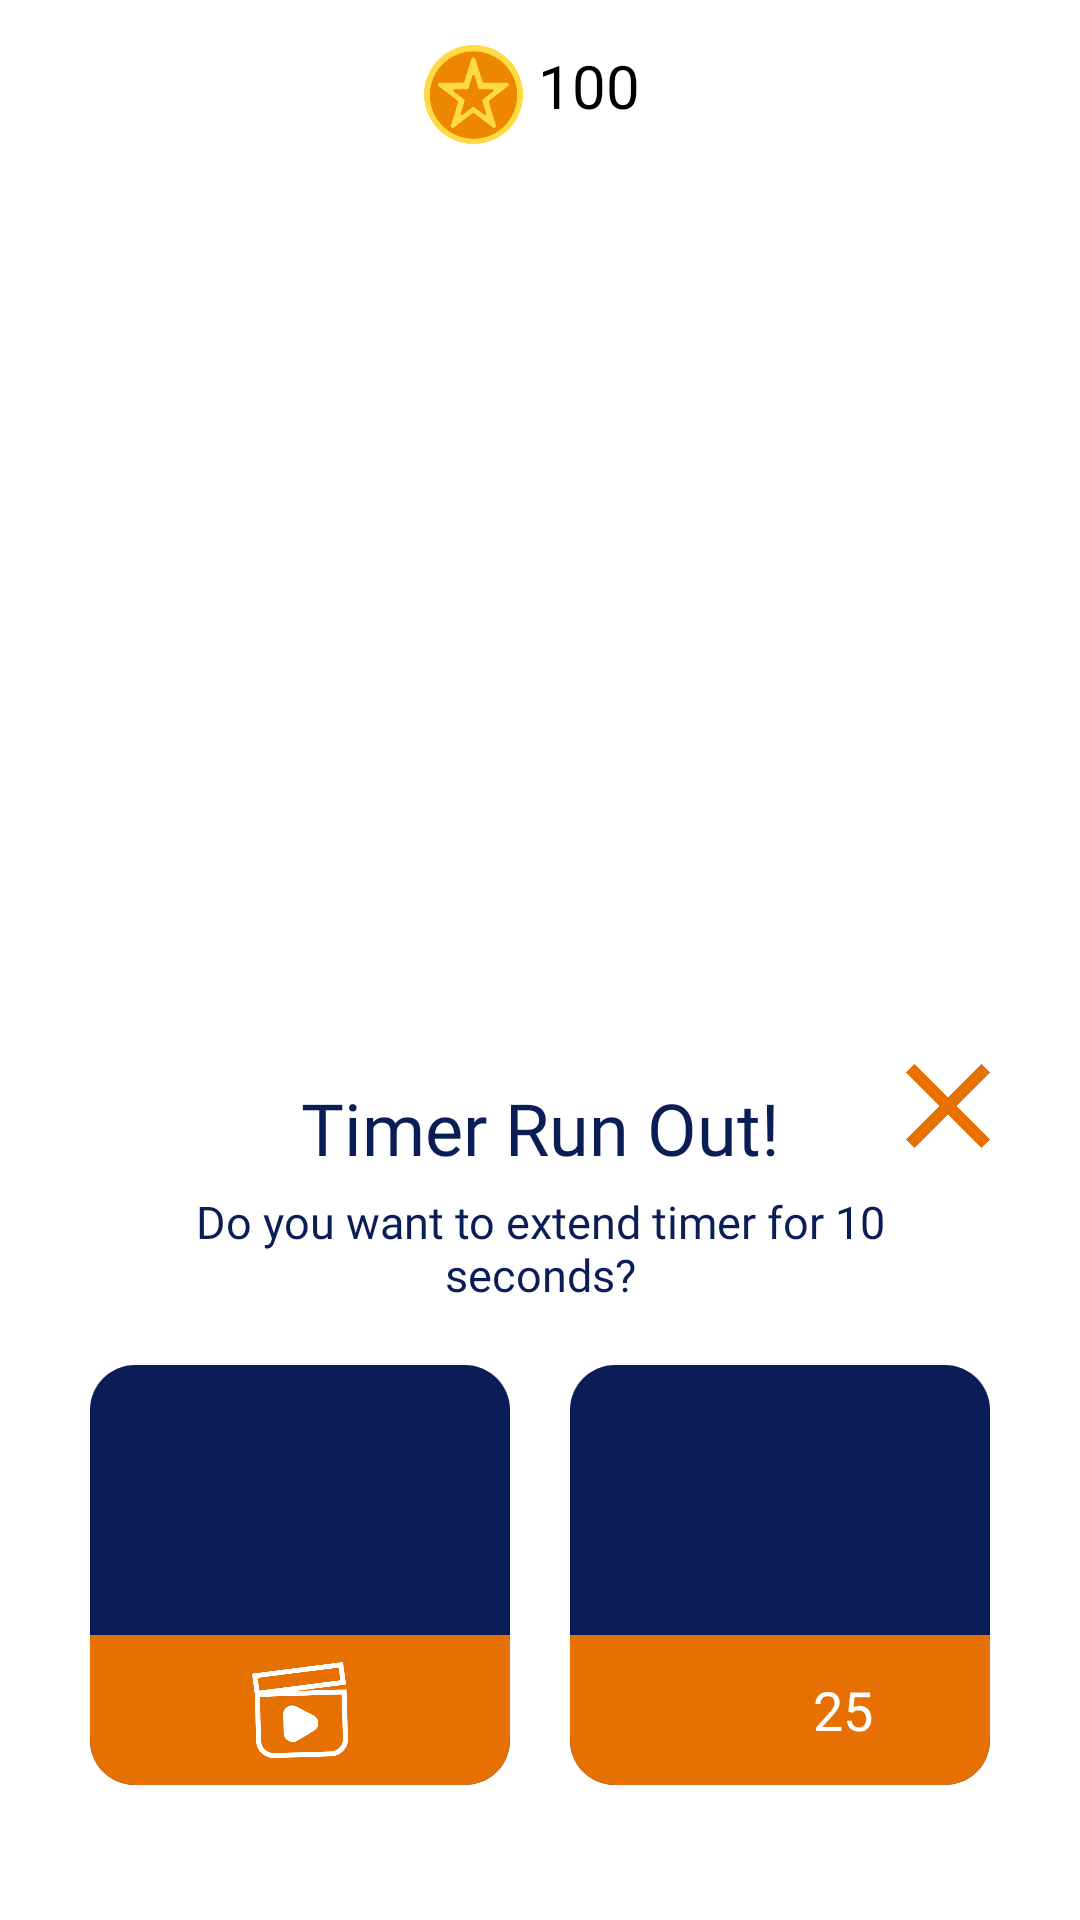

Point at icon controls on the screen. Image size 1080px×1920px, points as point (x, y).
close: point (948, 1106)
coin: point (473, 94)
video ad: point (300, 1710)
